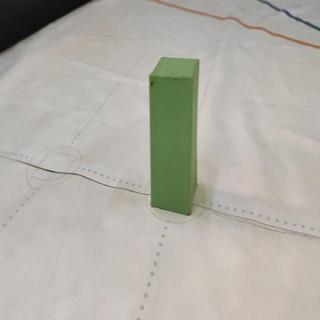greenbox: (148, 56, 201, 216)
